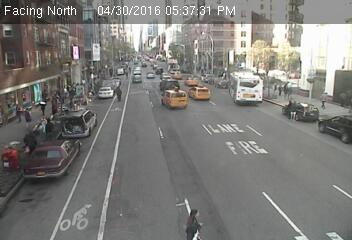neg: (55, 198, 78, 229), (163, 88, 184, 115), (233, 140, 253, 166), (68, 111, 87, 137), (147, 122, 166, 147), (184, 36, 201, 58), (191, 84, 207, 105), (90, 83, 105, 104), (310, 115, 325, 135), (244, 78, 259, 98), (286, 53, 301, 73), (255, 54, 270, 74), (26, 48, 41, 68), (330, 51, 344, 71), (215, 76, 229, 95), (218, 46, 231, 65), (151, 32, 164, 49), (65, 44, 76, 60), (129, 71, 141, 85)
pos: (183, 206, 208, 239), (44, 95, 65, 122), (38, 117, 56, 142), (10, 103, 26, 124), (35, 97, 50, 117), (110, 84, 124, 103), (318, 91, 332, 110), (339, 92, 350, 107), (282, 82, 293, 97), (272, 81, 282, 95)
